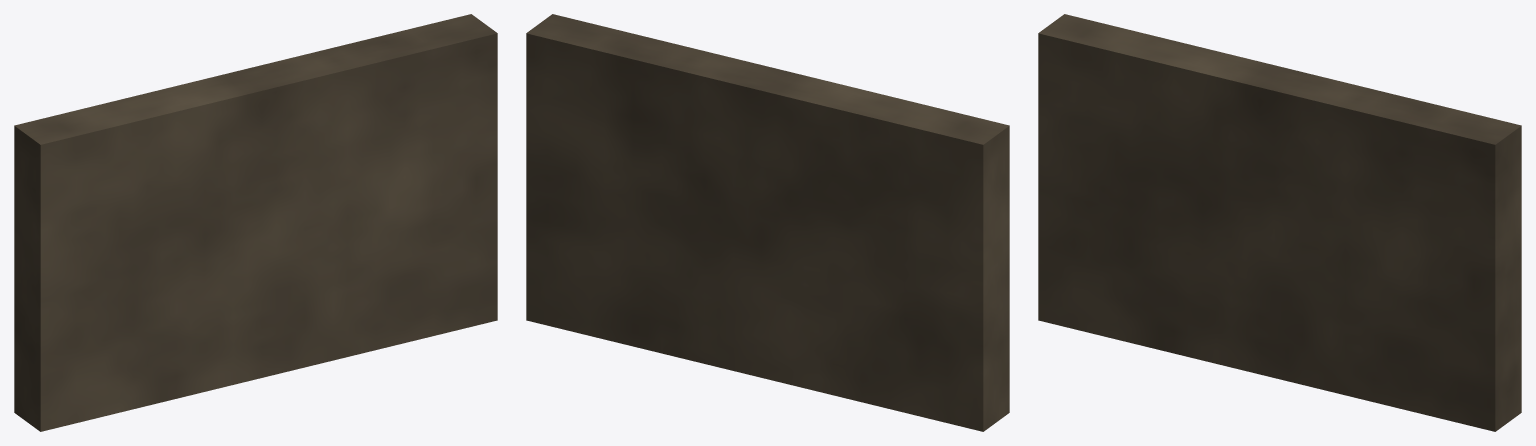
File: Entrance lintel wall.glb
3 renders of one model, left to right at view 1: azimuth 30°, elevation 25°; view 2: azimuth 150°, elevation 25°; view 3: azimuth 330°, elevation 25°, orthographic.
Parts seen in each view (by area): view 1: Entrance lintel wall; view 2: Entrance lintel wall; view 3: Entrance lintel wall.
Part boxes in pixels (x1,y1,x2,y2): Entrance lintel wall: (14,14,497,431); Entrance lintel wall: (526,14,1009,431); Entrance lintel wall: (1038,14,1521,431).
Size of the model in its own units: 3 by 1.8 by 0.3.
1 material, 1 textured.
